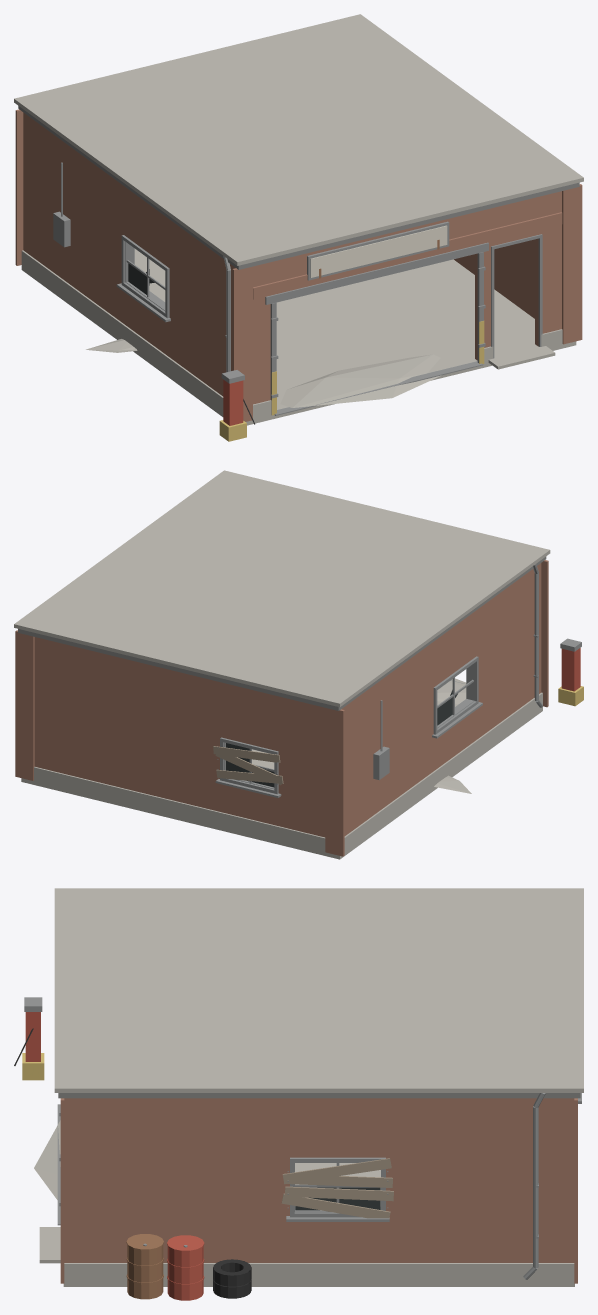
File: station_3.glb
3 renders of one model, top to bottom at view 1: azimuth 30°, elevation 25°; view 2: azimuth 150°, elevation 25°; view 3: azimuth 270°, elevation 25°, orthographic. The views are drawn at different scales.
Visible parts, largest first — view 1: Station; view 2: Station; view 3: Station.
Boxes of the visible parts, left/top/right/bottom form: Station: left=14, top=14, right=583, bottom=441; Station: left=14, top=470, right=583, bottom=859; Station: left=14, top=888, right=583, bottom=1300.
Bounding box in the file's own units: 9.07 × 3.56 × 9.17.
